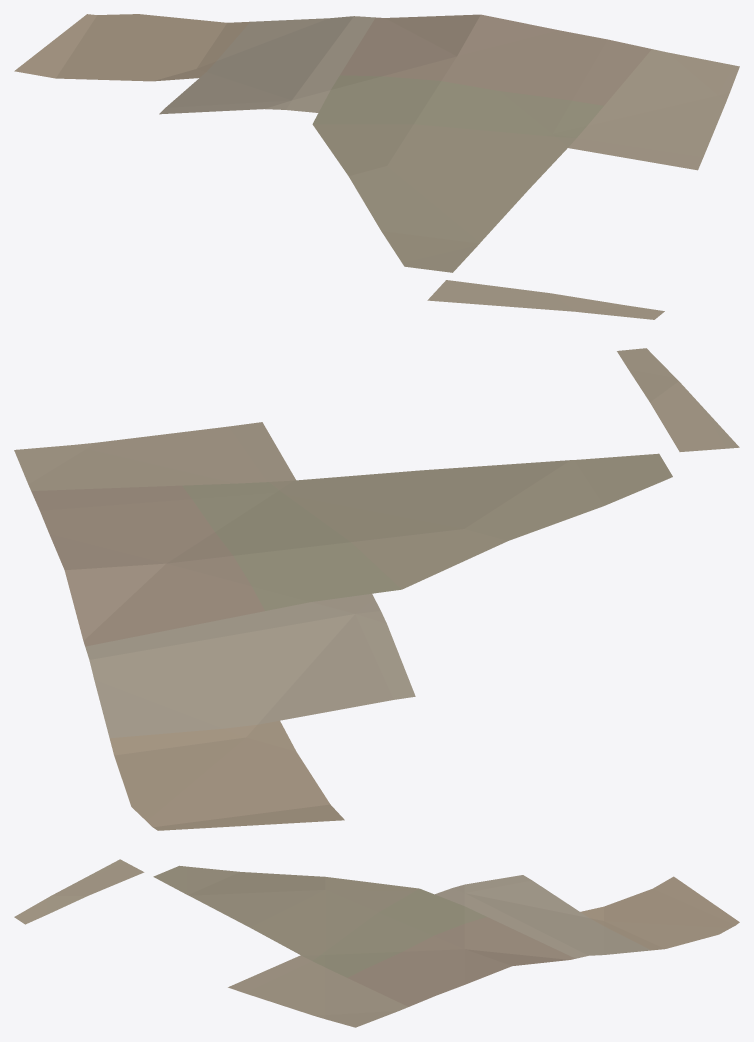
File: farm_-1_2_soil.glb
The picture shows the model from 3 angles, top to bottom: view 1: azimuth 30°, elevation 25°; view 2: azimuth 150°, elevation 25°; view 3: azimuth 270°, elevation 25°; orthographic projection. The views are drawn at different scales.
Visible parts, largest first — view 1: geometry_0; view 2: geometry_0; view 3: geometry_0.
Boxes of the visible parts, x1=… form: geometry_0: x1=14, y1=14, x2=739, y2=319; geometry_0: x1=14, y1=348, x2=739, y2=830; geometry_0: x1=14, y1=859, x2=739, y2=1027.
Bounding box in the file's own units: 246 × 26.19 × 417.
